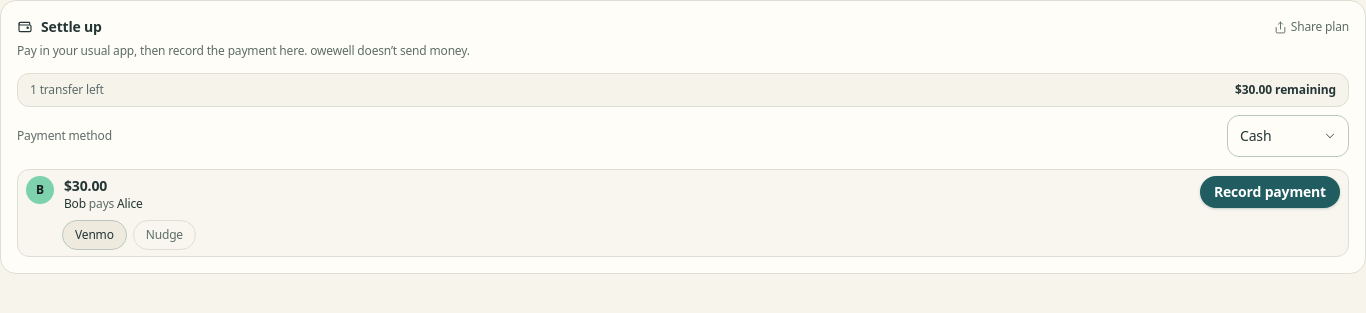
the row after a pay link is opened › asks for confirmation that the money actually moved
What coordinates should you click on to do the following:
click the link "Venmo"
I would click on:
 (94, 234)
Its box is [62,220,127,250].
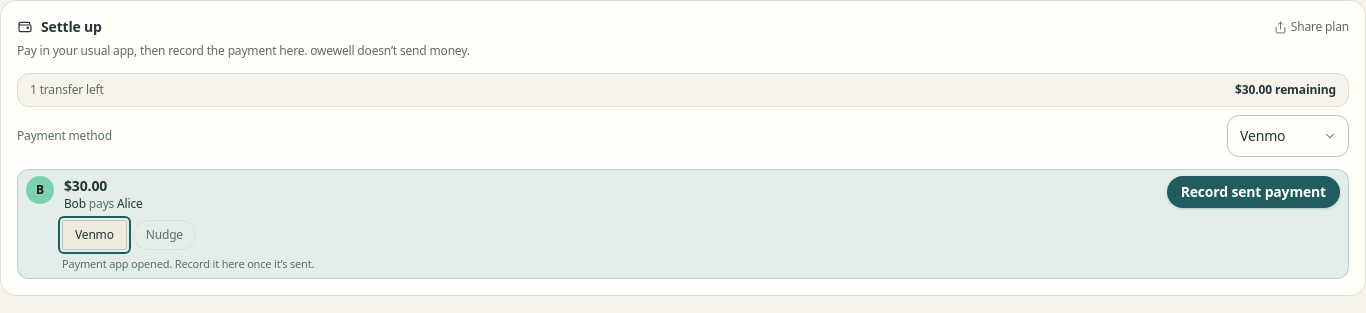
expect the message shows "Payment app opened": met, box [62,256,314,270]
